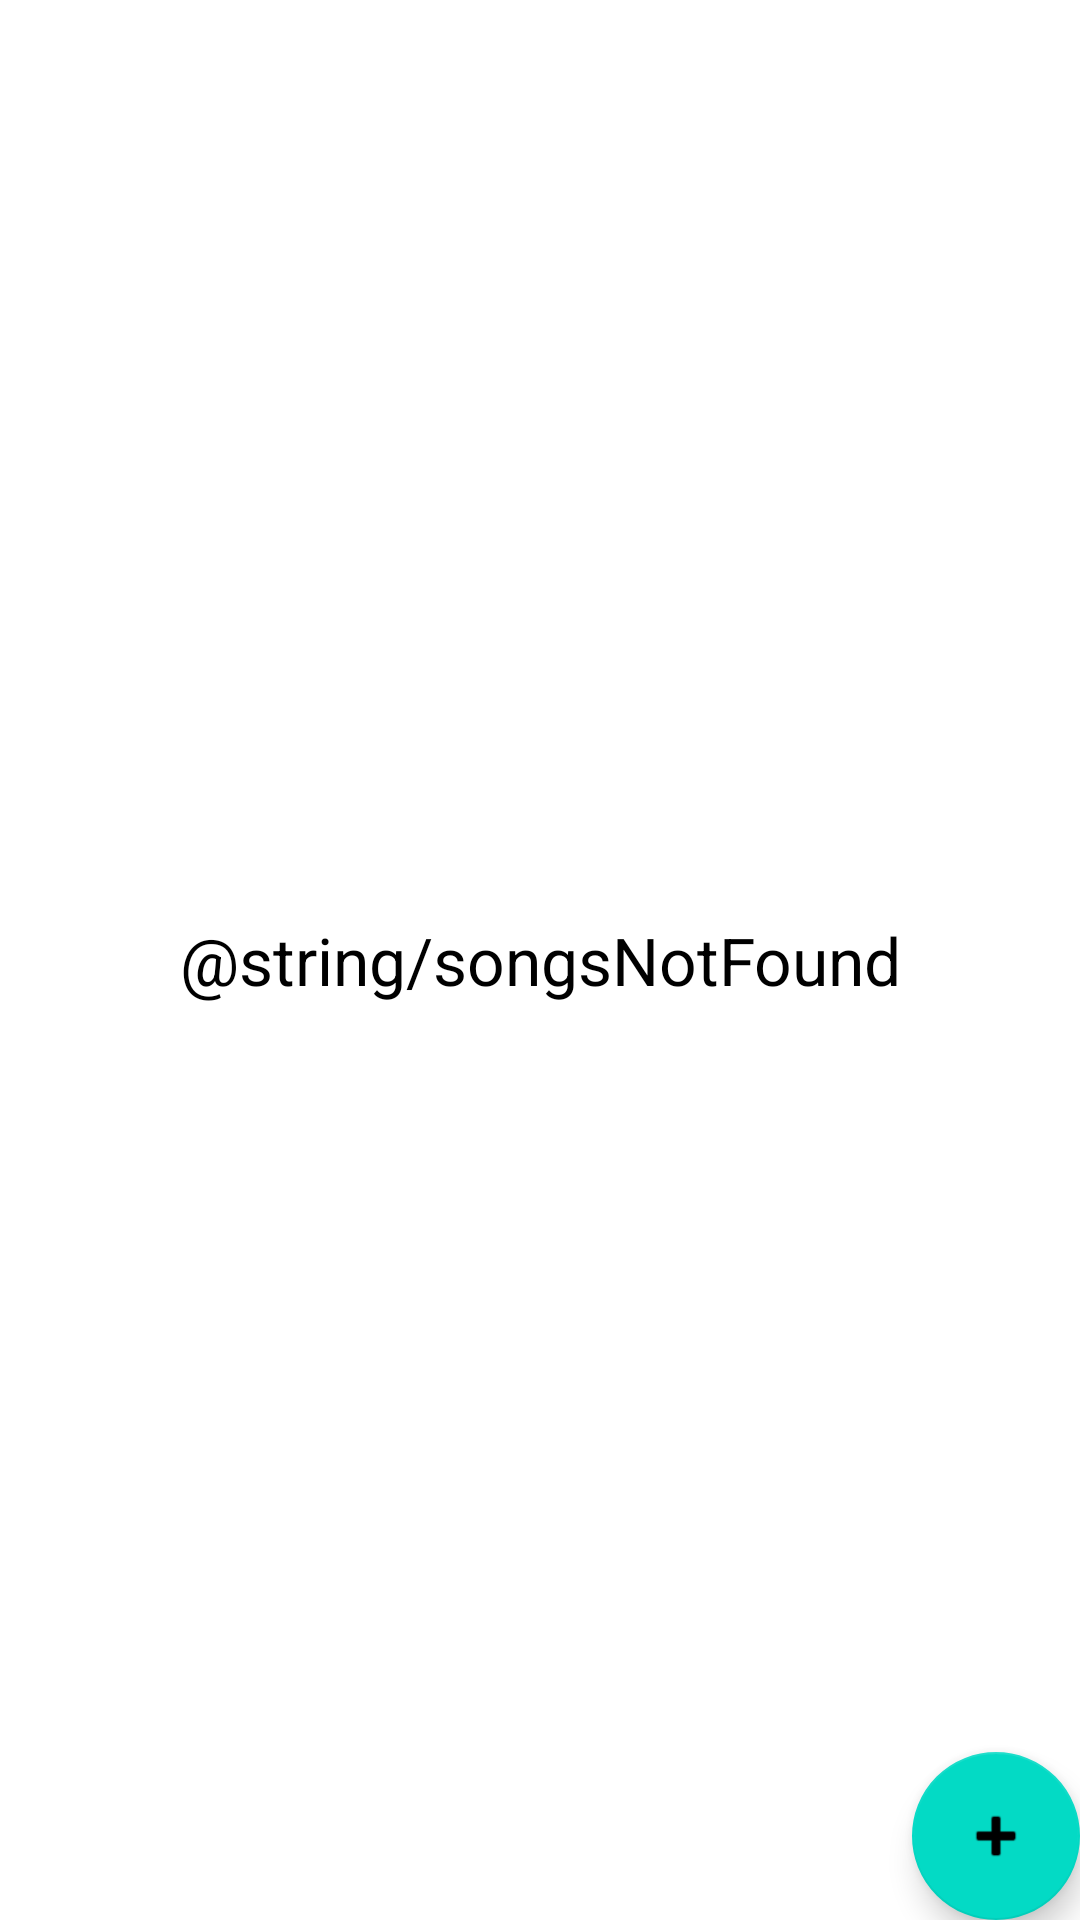

Icons on this 1080x1920 Android screen, each with its box as box=[x1, y1, x2, y2]:
add: box=[912, 1752, 1080, 1920]
